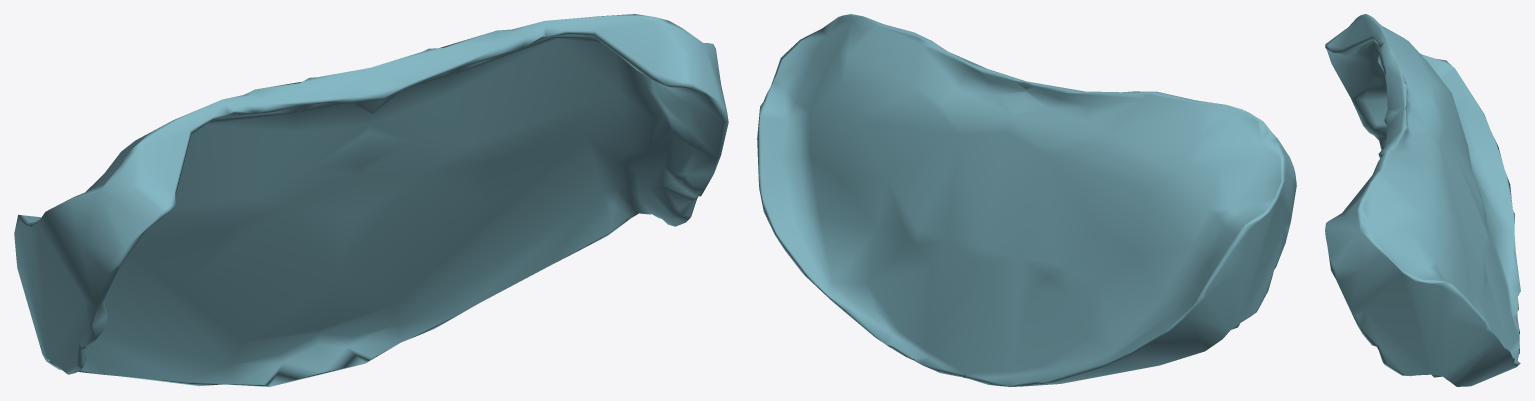
3 views of the same model, side by side, from view 1: azimuth 30°, elevation 25°; view 2: azimuth 150°, elevation 25°; view 3: azimuth 270°, elevation 25° (orthographic). The views are drawn at different scales.
Parts seen in each view (by area): view 1: 颈7—胸1椎间盘; view 2: 颈7—胸1椎间盘; view 3: 颈7—胸1椎间盘.
Part boxes in pixels (left/top/right/bottom): 颈7—胸1椎间盘: left=14, top=14, right=728, bottom=386; 颈7—胸1椎间盘: left=757, top=14, right=1296, bottom=386; 颈7—胸1椎间盘: left=1325, top=14, right=1520, bottom=386.
Size of the model in its own units: 0.05 by 0.026 by 0.0181.
